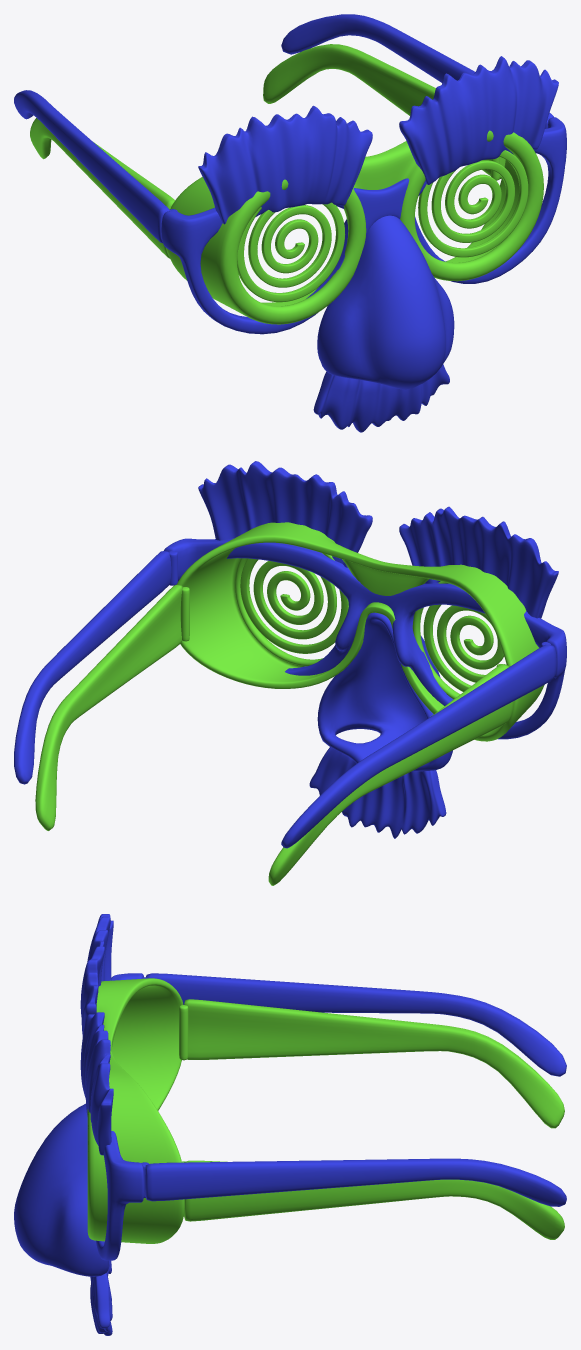
Rendered from hypno.glb.
3 renders of one model, top to bottom at view 1: azimuth 30°, elevation 25°; view 2: azimuth 150°, elevation 25°; view 3: azimuth 270°, elevation 25°, orthographic.
Visible parts, largest first — view 1: 17891_Groucho_Glasses_v1, 17892_Hypno_Glasses_v1_NEW; view 2: 17891_Groucho_Glasses_v1, 17892_Hypno_Glasses_v1_NEW; view 3: 17891_Groucho_Glasses_v1, 17892_Hypno_Glasses_v1_NEW.
Boxes of the visible parts, bbox=[...] form: 17891_Groucho_Glasses_v1: bbox=[14, 14, 566, 432]; 17892_Hypno_Glasses_v1_NEW: bbox=[30, 44, 543, 324]; 17891_Groucho_Glasses_v1: bbox=[14, 461, 566, 848]; 17892_Hypno_Glasses_v1_NEW: bbox=[35, 522, 544, 885]; 17891_Groucho_Glasses_v1: bbox=[14, 914, 566, 1335]; 17892_Hypno_Glasses_v1_NEW: bbox=[87, 978, 564, 1243].
Bounding box in the file's own units: 5.2 × 4.25 × 6.16.
